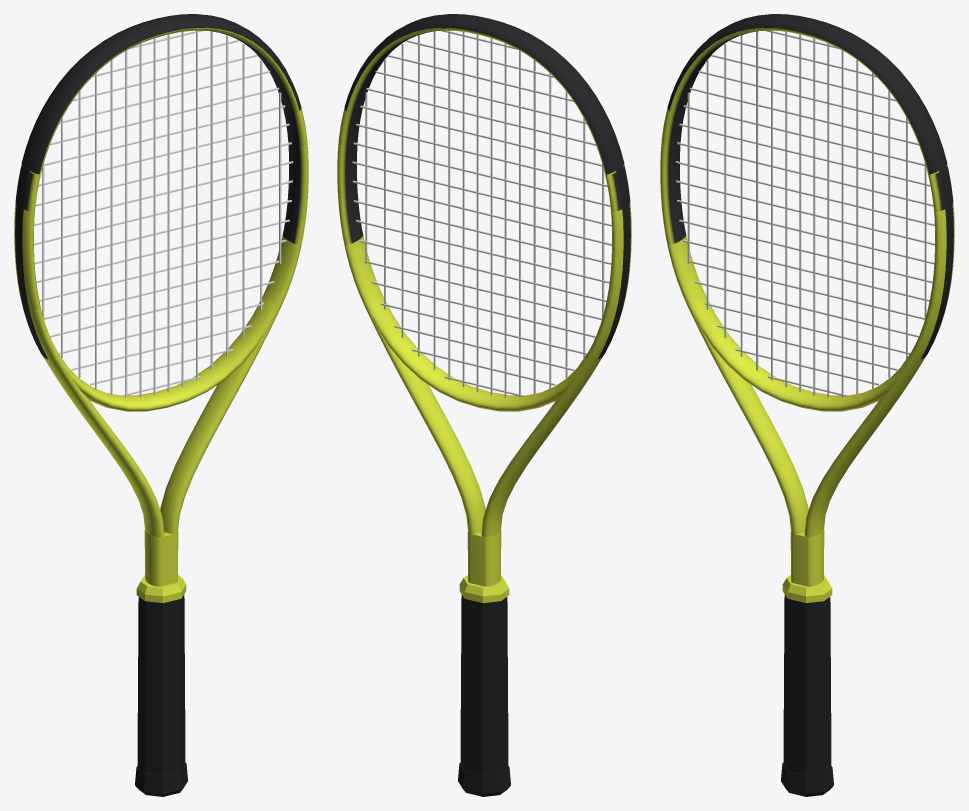
File: dunlop-sx-300-2022.glb
The picture shows the model from 3 angles, left to right: view 1: azimuth 30°, elevation 25°; view 2: azimuth 150°, elevation 25°; view 3: azimuth 330°, elevation 25°; orthographic projection.
Visible parts, largest first — view 1: frame, strings_mains, strings_crosses, grip, bumper, grommets, butt_cap, collar; view 2: frame, strings_mains, strings_crosses, grip, bumper, grommets, butt_cap, collar; view 3: frame, strings_mains, strings_crosses, grip, bumper, grommets, butt_cap, collar.
Boxes of the visible parts, x1,y1,x2,y2 form: frame: (14,27,308,586); strings_mains: (42,30,281,397); strings_crosses: (34,30,293,396); grip: (137,594,185,774); bumper: (21,14,301,174); grommets: (15,166,47,359); butt_cap: (135,762,187,796); collar: (136,575,186,602); frame: (337,27,631,586); strings_mains: (365,30,604,397); strings_crosses: (352,30,611,396); grip: (460,594,508,774); bumper: (344,14,624,174); grommets: (598,166,630,359); butt_cap: (458,762,510,796); collar: (459,575,509,602); frame: (660,27,954,586); strings_mains: (687,30,926,397); strings_crosses: (675,30,934,396); grip: (783,594,831,774); bumper: (667,14,947,174); grommets: (921,166,953,359); butt_cap: (781,762,833,796); collar: (782,575,832,602).
Size of the model in its own units: 0.2687 by 0.6861 by 0.0377.
